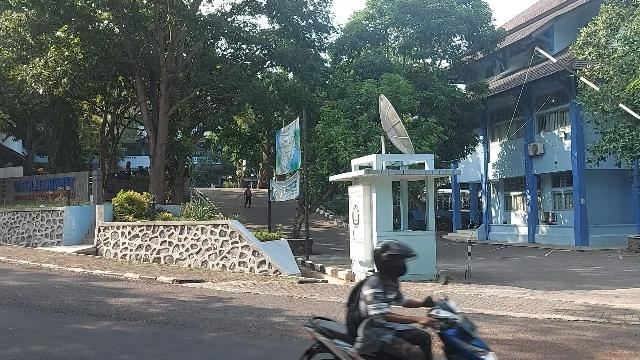helm: (375, 241, 419, 277)
